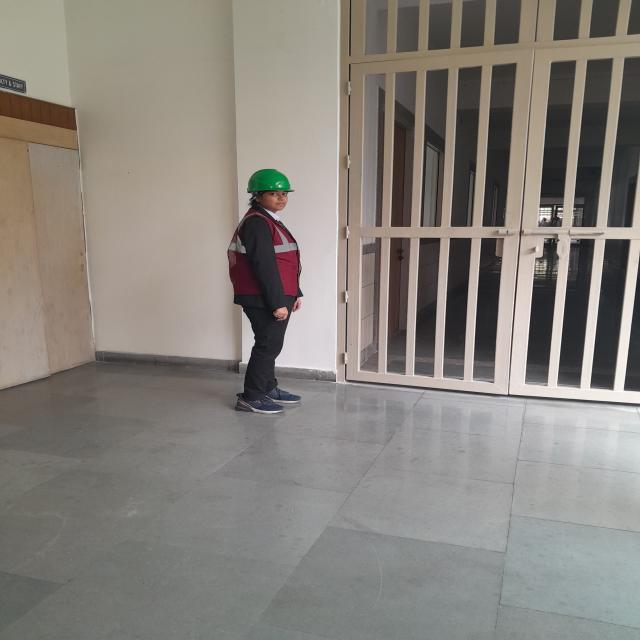safe: (226, 169, 306, 414)
